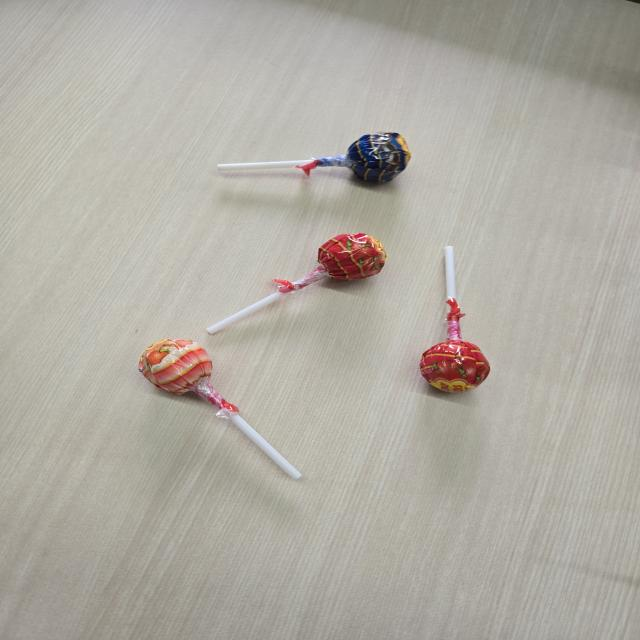lollipop: (136, 332, 314, 490), (200, 228, 394, 336), (211, 126, 416, 190), (420, 241, 493, 397)
